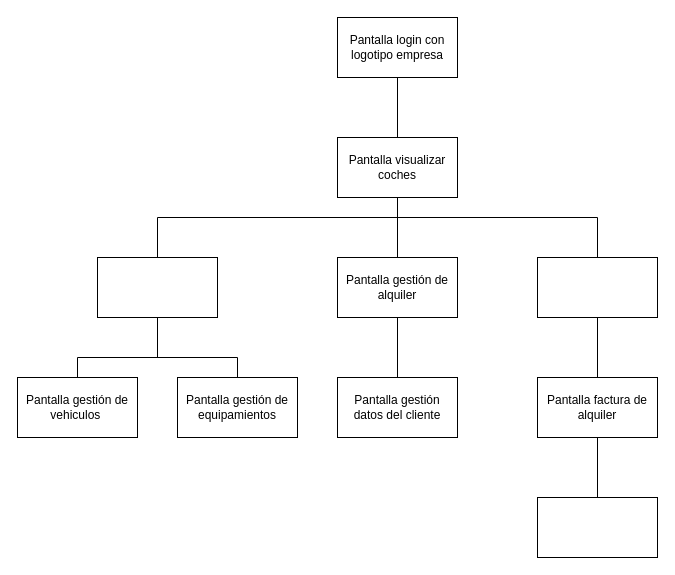
The diagram is 675 pixels wide and 575 high, and some of its shapes have lost their labels. The shapes that lost their labels are listed below. From the top down, each one's centre as x and y in pixels, then its label:
At (157,287): "Pantalla nuevo alquiler".
At (597,287): "Pantalla generación de contrato de alquiler".
At (597,527): "Pantalla encuesta por el alquiler consumido".
